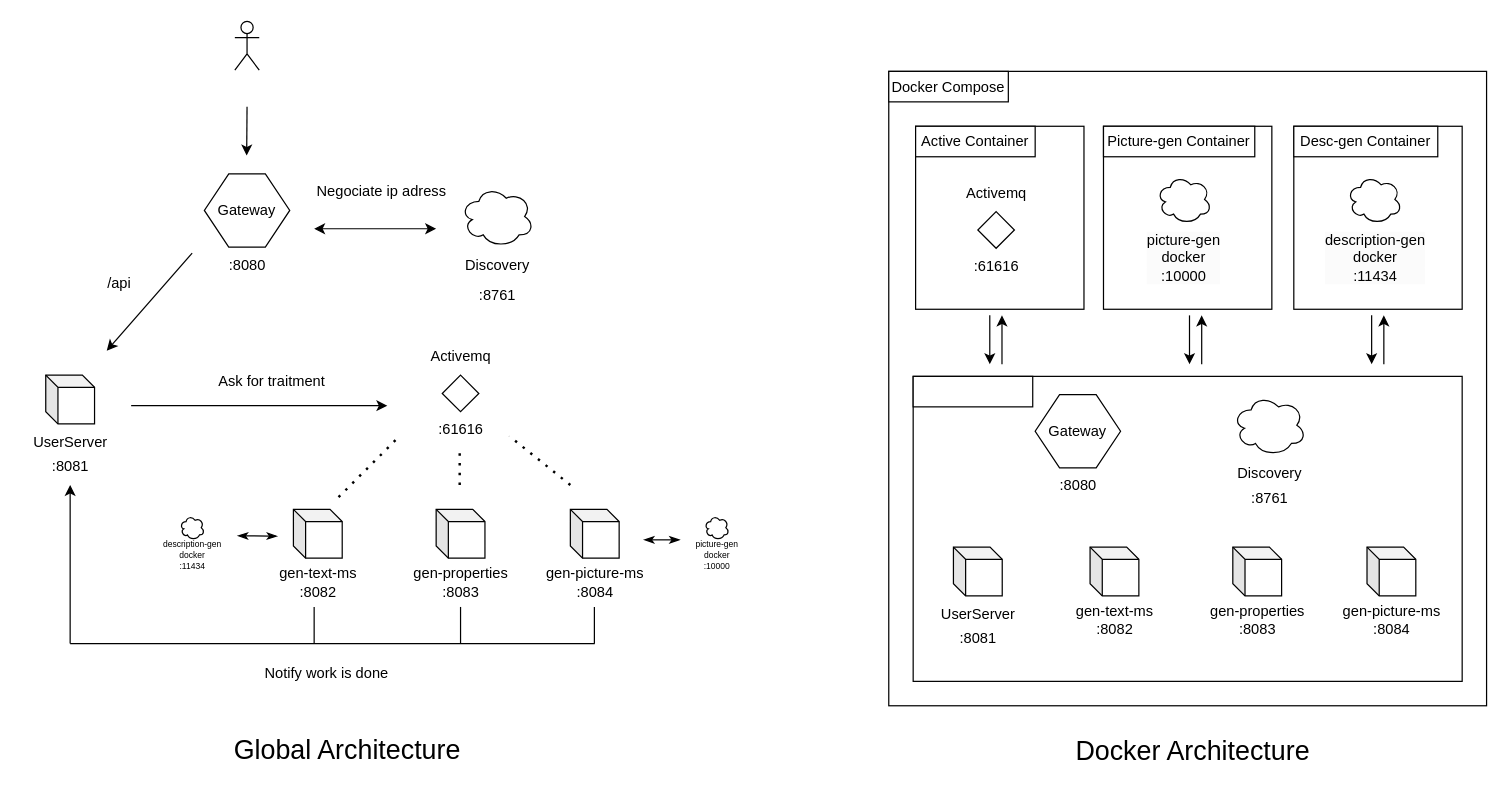
Image size: 1508x805. Some labels were removed from this diagram. The shapes that lost their labels are listed below. From the top down, each one's box as (x1, y1, x2, y2) in pixels, then its label:
(234, 20, 259, 70): User interface
(912, 375, 1033, 407): ASI Container
